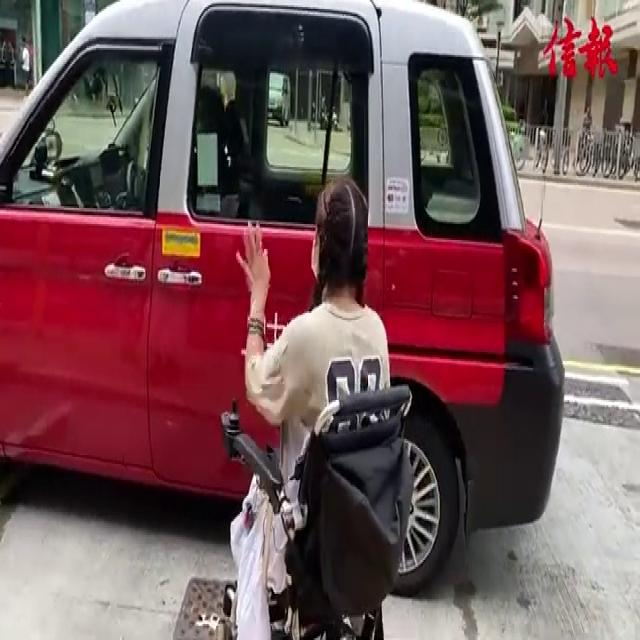wheelchairs: (216, 346, 416, 640)
